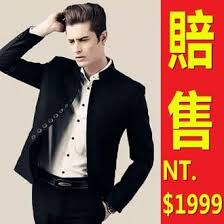F_M_suit jacket: (1, 24, 160, 215)
F_belt: (27, 163, 104, 198)
